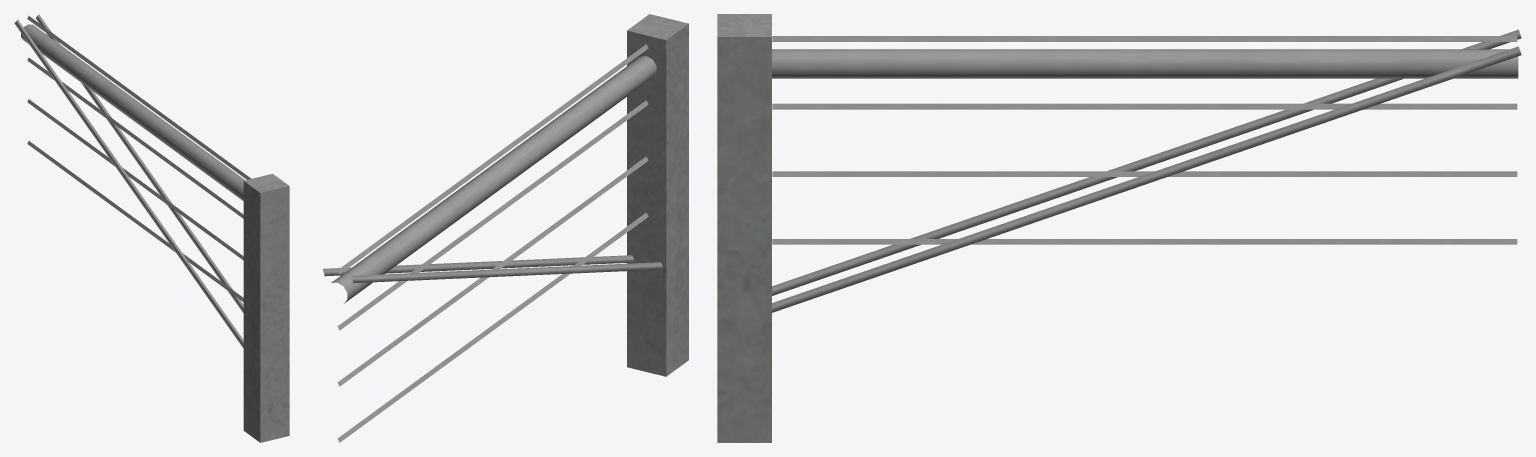
Rendered from farm-fence-end-BottomToTopStay-cbj_LOD00.gltf.
The picture shows the model from 3 angles, left to right: view 1: azimuth 30°, elevation 25°; view 2: azimuth 150°, elevation 25°; view 3: azimuth 270°, elevation 25°; orthographic projection. The views are drawn at different scales.
Parts seen in each view (by area): view 1: fence; view 2: fence; view 3: fence.
Boxes of the visible parts, x1,y1,x2,y2 form: fence: (14,14,289,442); fence: (322,14,688,442); fence: (717,14,1521,442).
Size of what is drawn, in the model's own units: 0.22 by 1.8 by 3.23.
